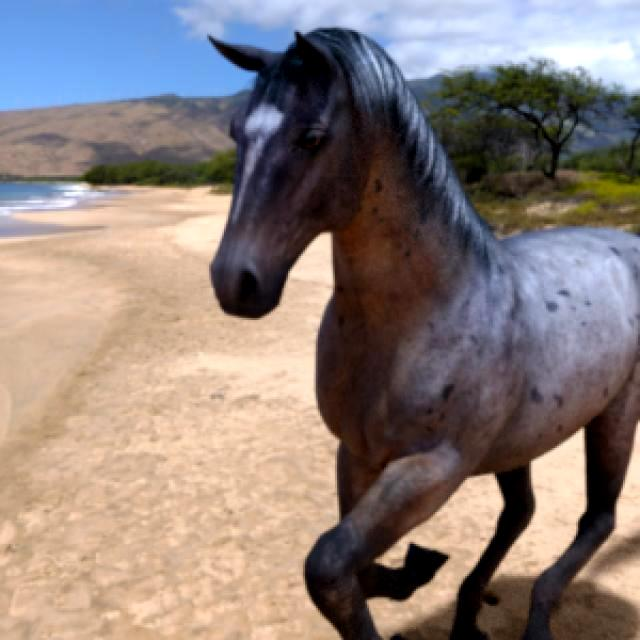horse: (211, 29, 640, 640)
